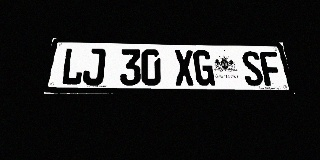0: (141, 49, 161, 86)
3: (120, 49, 140, 85)
F: (259, 51, 284, 86)
G: (193, 50, 215, 86)
J: (82, 48, 106, 85)
L: (60, 48, 85, 85)
S: (240, 51, 265, 86)
X: (174, 50, 195, 86)
